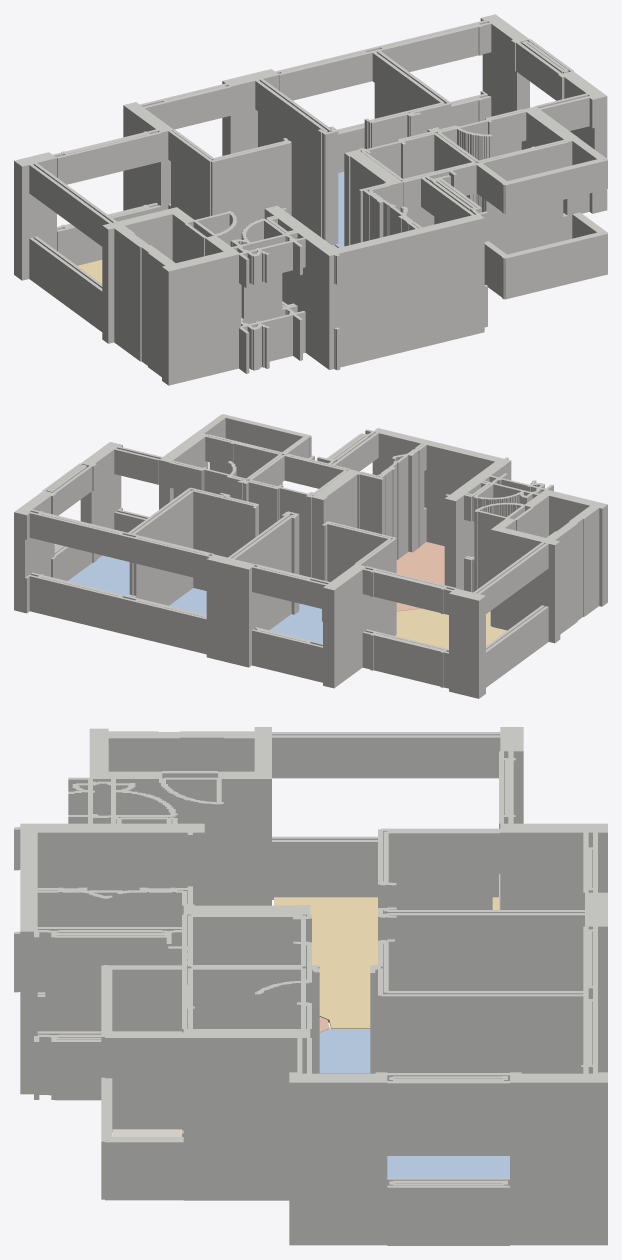
3 views of the same model, one above another, from view 1: azimuth 30°, elevation 25°; view 2: azimuth 150°, elevation 25°; view 3: azimuth 270°, elevation 25° (orthographic). The views are drawn at different scales.
Visible parts, largest first — view 1: walls, room:bedroom:2; view 2: walls, room:living:0, room:kitchen:8, room:bedroom:1, room:bedroom:3, room:bedroom:2; view 3: walls, room:living:0, room:bedroom:1, room:bedroom:3.
Part boxes in pixels (left/top/right/bottom): walls: left=14, top=14, right=607, bottom=385; room:bedroom:2: left=334, top=172, right=344, bottom=247; walls: left=14, top=414, right=607, bottom=698; room:living:0: left=395, top=608, right=506, bottom=649; room:kitchen:8: left=396, top=542, right=444, bottom=611; room:bedroom:1: left=68, top=555, right=129, bottom=595; room:bedroom:3: left=270, top=603, right=322, bottom=643; room:bedroom:2: left=169, top=588, right=206, bottom=614; walls: left=14, top=727, right=607, bottom=1245; room:living:0: left=274, top=897, right=498, bottom=1028; room:bedroom:1: left=387, top=1156, right=509, bottom=1177; room:bedroom:3: left=319, top=1029, right=370, bottom=1073.
Bounding box in the file's own units: 13.15 × 2.8 × 9.27.
